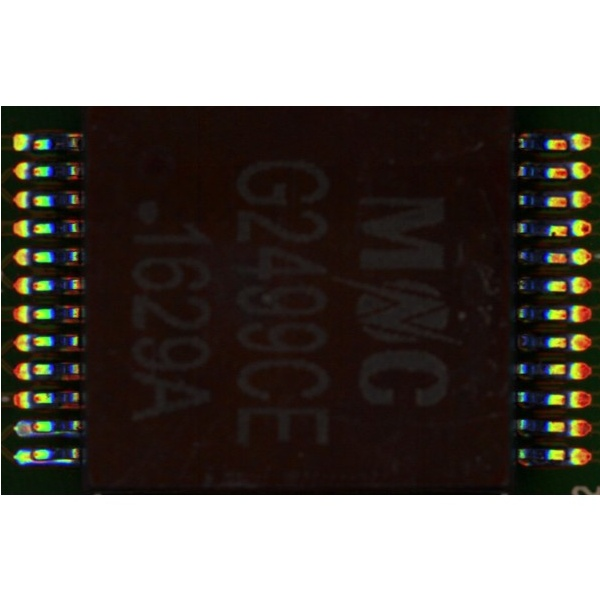Bad_podu: (22, 450, 36, 458), (26, 421, 37, 431)
Bad_qiaojiao: (32, 458, 74, 463), (32, 431, 81, 435)
